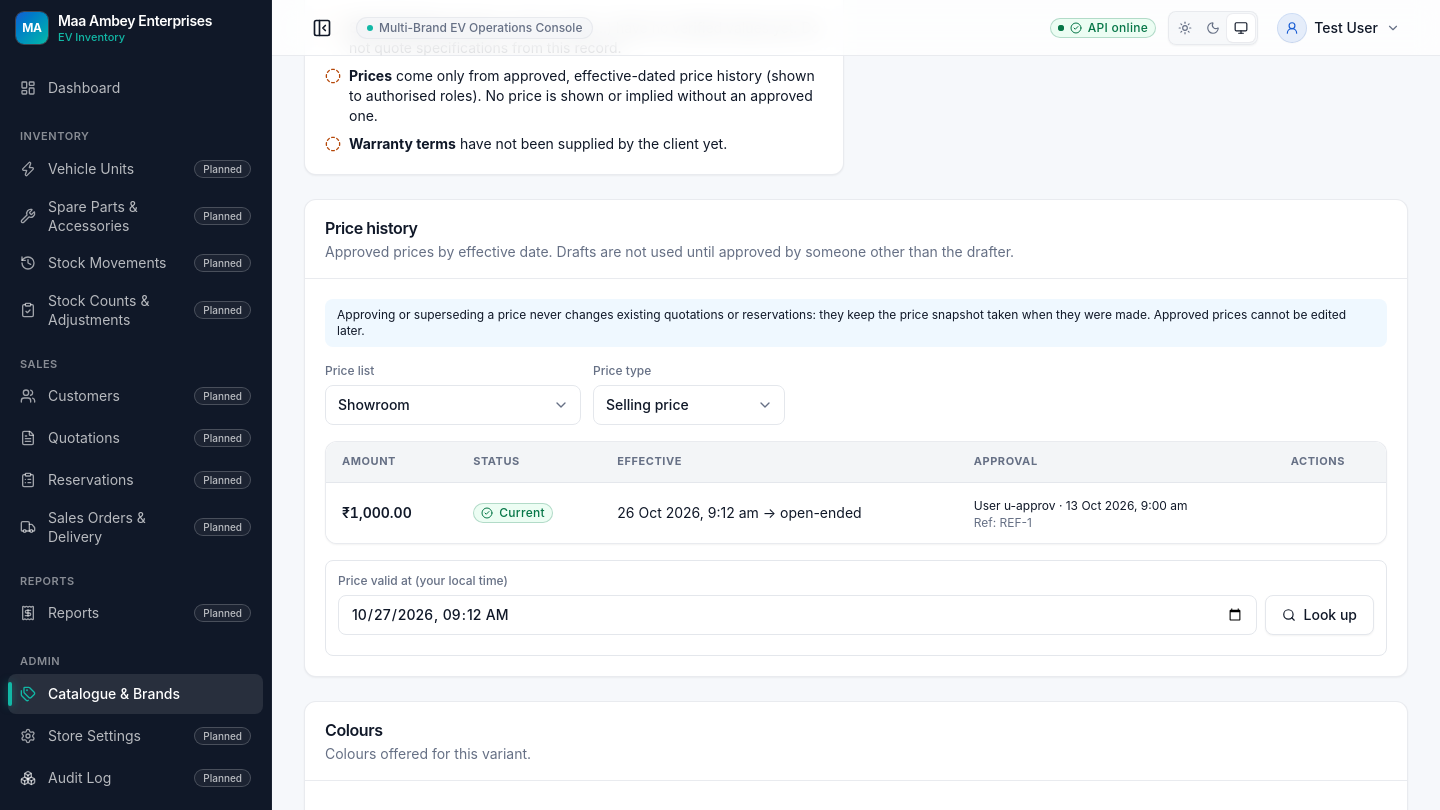
Scenario: variant price history › shows cost prices only to cost viewers, behind a type switch
The width and height of the screenshot is (1440, 810).
(page scrolled)
Expected: the table named "Price history" is shown, [326, 442, 1386, 543]
Expected: the text "₹700.00" is not shown
Select "Cost price" in the dropdown labelled "Price type" at (689, 405), box [593, 385, 785, 425]
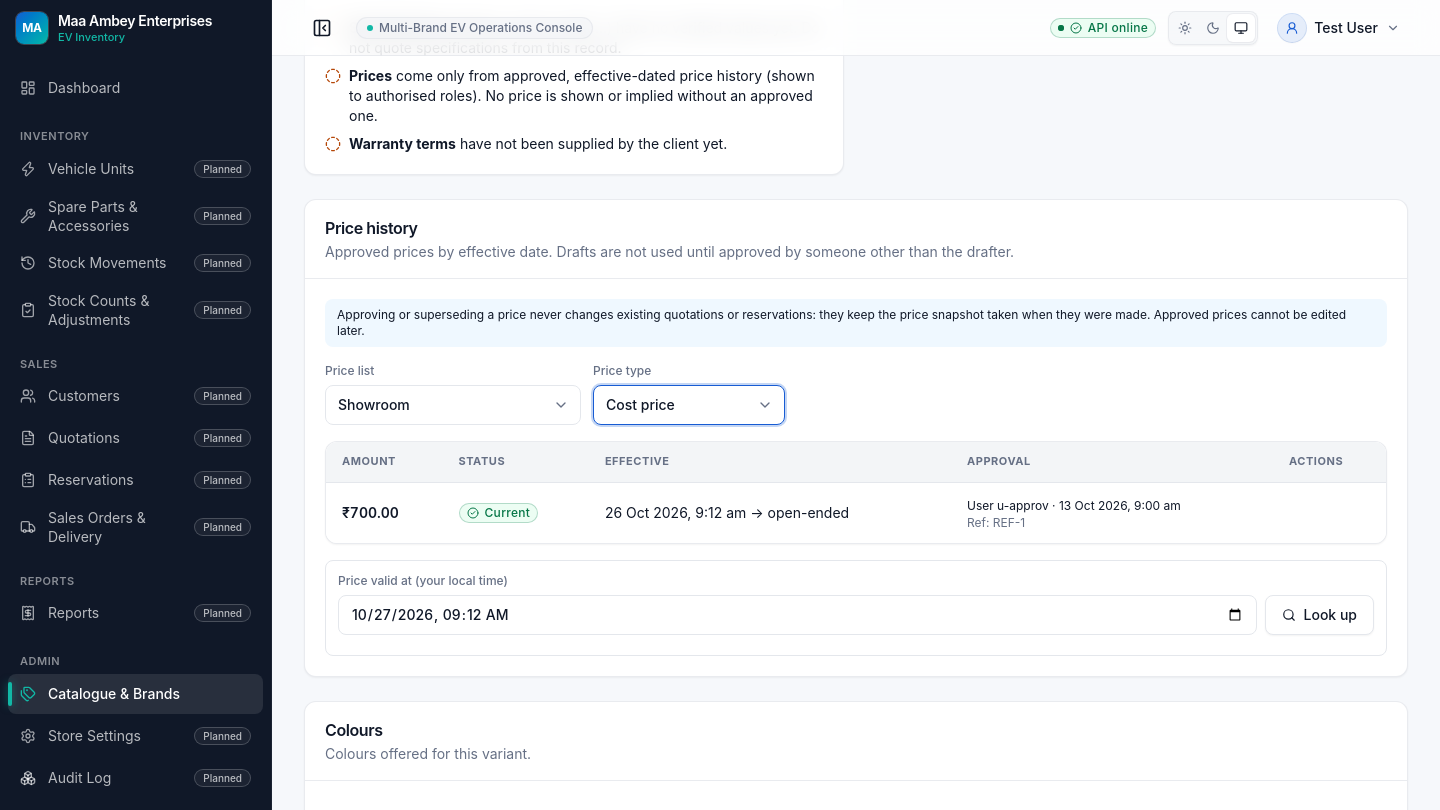
Expected: the text "₹700.00" is shown, [342, 504, 399, 521]
